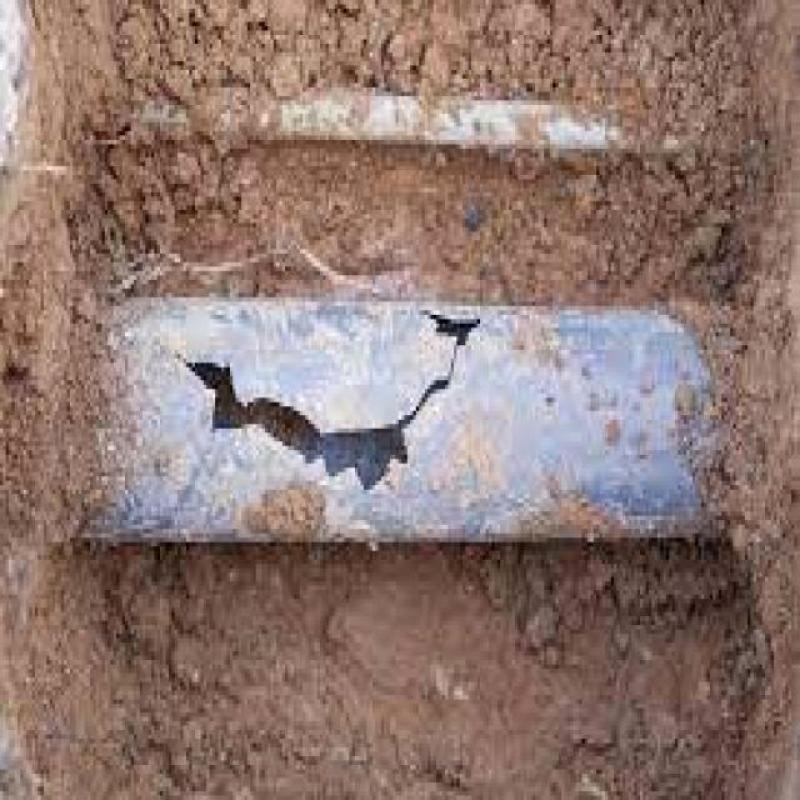Fracture: (180, 352, 445, 482), (430, 305, 475, 333)
